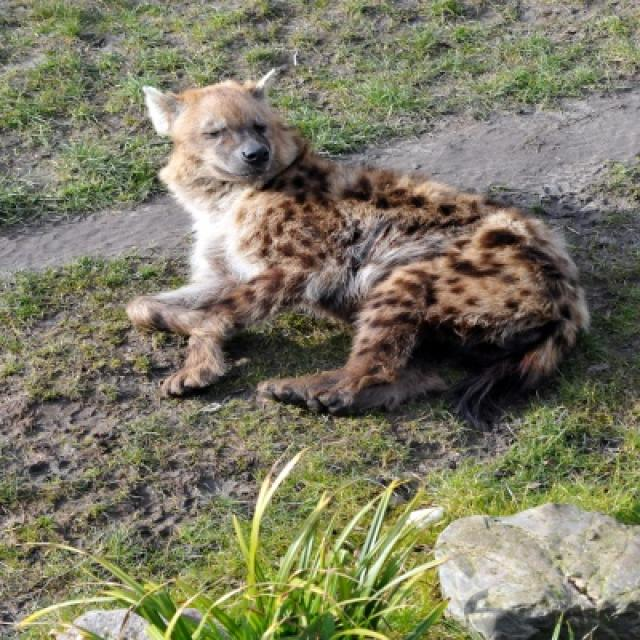hyena: (126, 70, 587, 421)
